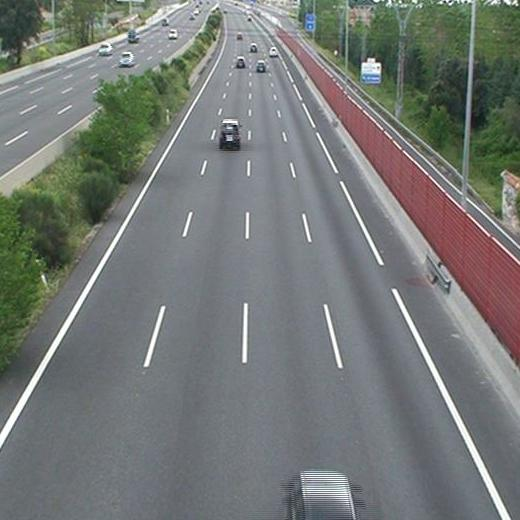car: (219, 120, 240, 145), (236, 57, 246, 69), (255, 61, 265, 72), (269, 47, 277, 56), (249, 44, 257, 53)
